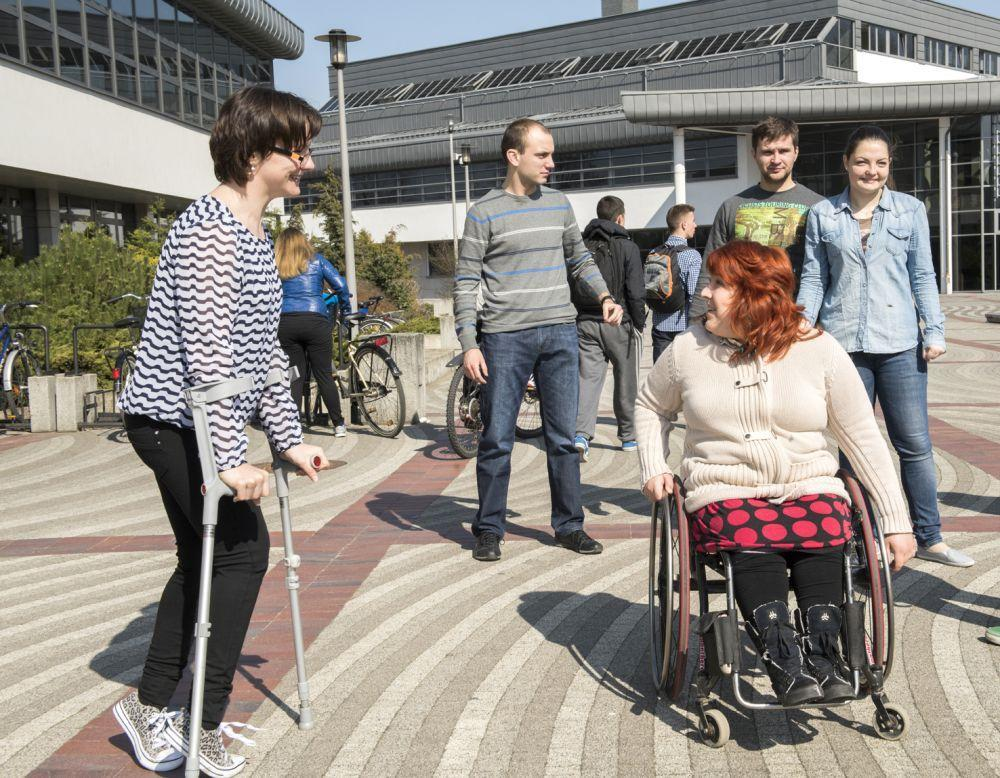crutches: (102, 66, 329, 776)
wheelchair: (643, 238, 911, 749)
